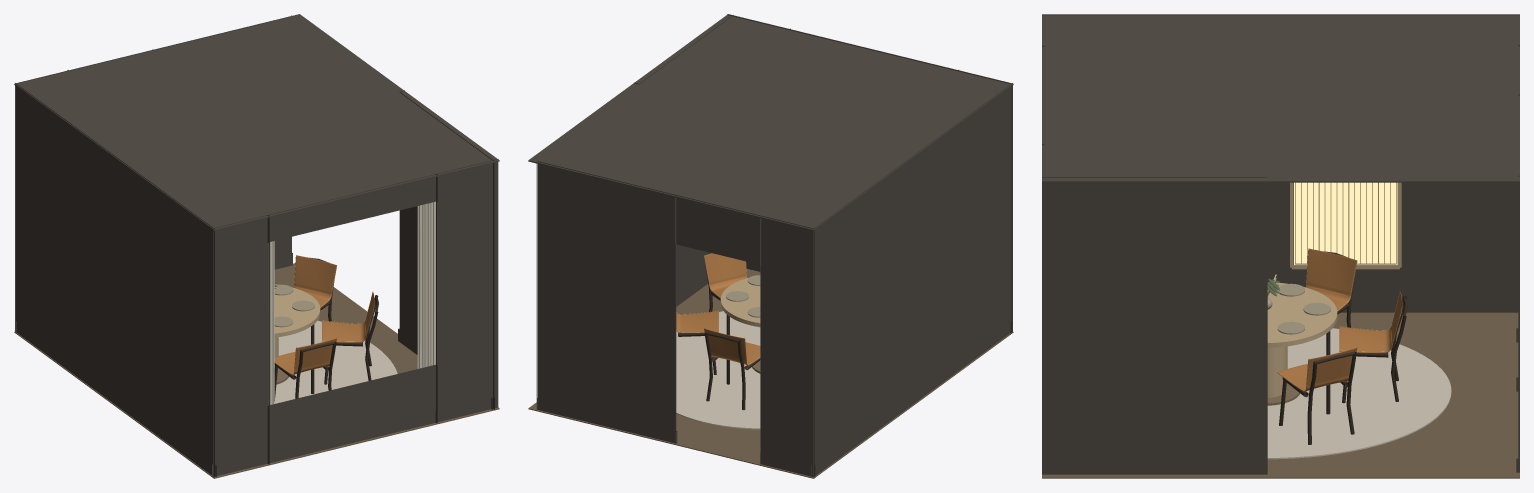
The model's file is dining-2.glb.
The picture shows the model from 3 angles, left to right: view 1: azimuth 30°, elevation 25°; view 2: azimuth 150°, elevation 25°; view 3: azimuth 270°, elevation 25°; orthographic projection. The views are drawn at different scales.
Parts seen in each view (by area): view 1: DESIGN | dining removable wall finish, DESIGN | dining ceiling finish, DESIGN | dining floor finish, DESIGN | Dining ground, DESIGN | Dining linen edge.001, DESIGN | Required Isadora dining chair 5, DESIGN | Required Isadora dining chair 1, DESIGN | Required Isadora dining chair 6, DESIGN | Dining table top, DESIGN | Dining linen edge; view 2: DESIGN | dining removable wall finish, DESIGN | dining ceiling finish, DESIGN | Dining ground, DESIGN | dining floor finish, DESIGN | Required Isadora dining chair 2, DESIGN | Required Isadora dining chair 6, DESIGN | Dining table top, DESIGN | Required Isadora dining chair 1; view 3: DESIGN | dining removable wall finish, DESIGN | dining ceiling finish, DESIGN | dining floor finish, DESIGN | Dining ground, DESIGN | Dining paired lit panels diffuse backing.001, DESIGN | Required Isadora dining chair 1, DESIGN | Kumiko | Dining paired lit panels.001, DESIGN | Dining table top, DESIGN | Required Isadora dining chair 3, DESIGN | Required Isadora dining chair 2, DESIGN | Dining table pedestal.
Boxes of the visible parts, x1,y1,x2,y2 form: DESIGN | dining removable wall finish: [15, 15, 498, 477]; DESIGN | dining ceiling finish: [14, 14, 499, 230]; DESIGN | dining floor finish: [14, 263, 499, 478]; DESIGN | Dining ground: [274, 320, 397, 403]; DESIGN | Dining linen edge.001: [417, 201, 435, 368]; DESIGN | Required Isadora dining chair 5: [274, 338, 336, 400]; DESIGN | Required Isadora dining chair 1: [293, 255, 336, 344]; DESIGN | Required Isadora dining chair 6: [322, 292, 378, 384]; DESIGN | Dining table top: [274, 284, 320, 337]; DESIGN | Dining linen edge: [268, 241, 274, 405]; DESIGN | dining removable wall finish: [536, 14, 1012, 477]; DESIGN | dining ceiling finish: [528, 14, 1013, 230]; DESIGN | Dining ground: [676, 311, 760, 429]; DESIGN | dining floor finish: [528, 269, 1013, 478]; DESIGN | Required Isadora dining chair 2: [704, 328, 760, 410]; DESIGN | Required Isadora dining chair 6: [704, 253, 746, 335]; DESIGN | Dining table top: [720, 278, 760, 327]; DESIGN | Required Isadora dining chair 1: [676, 310, 718, 374]; DESIGN | dining removable wall finish: [1042, 14, 1519, 474]; DESIGN | dining ceiling finish: [1042, 15, 1519, 182]; DESIGN | dining floor finish: [1042, 312, 1519, 478]; DESIGN | Dining ground: [1267, 328, 1451, 459]; DESIGN | Dining paired lit panels diffuse backing.001: [1294, 182, 1397, 264]; DESIGN | Required Isadora dining chair 1: [1277, 347, 1357, 444]; DESIGN | Kumiko | Dining paired lit panels.001: [1290, 182, 1401, 269]; DESIGN | Dining table top: [1267, 282, 1337, 347]; DESIGN | Required Isadora dining chair 3: [1306, 248, 1357, 355]; DESIGN | Required Isadora dining chair 2: [1339, 292, 1407, 403]; DESIGN | Dining table pedestal: [1267, 346, 1287, 397].
Size of the model in its own units: 3.28 by 2.74 by 3.98.
